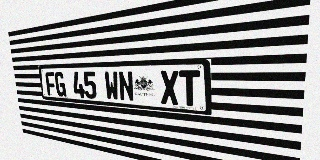4: (72, 72, 85, 98)
5: (83, 71, 97, 99)
F: (45, 72, 57, 96)
G: (54, 72, 66, 97)
N: (118, 71, 134, 102)
T: (179, 70, 200, 107)
W: (104, 71, 119, 101)
X: (160, 70, 179, 105)
